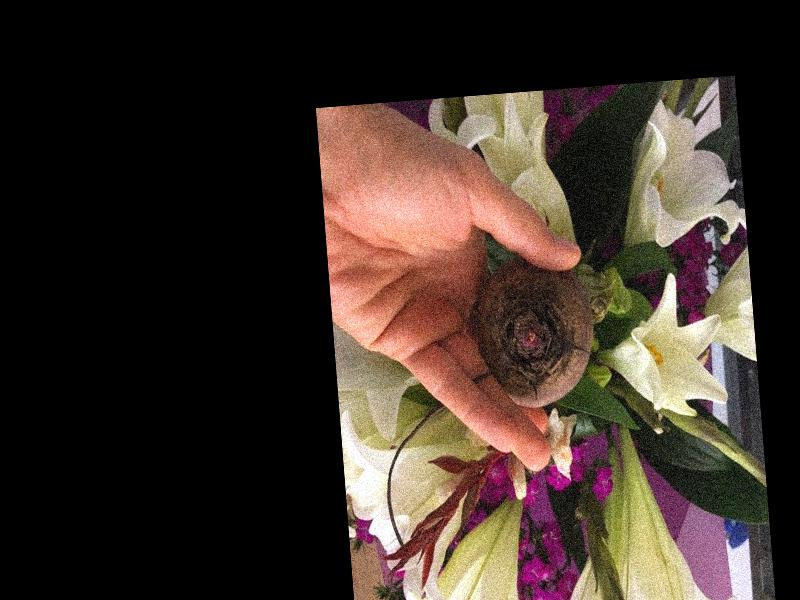Beet: (467, 254, 599, 414)
